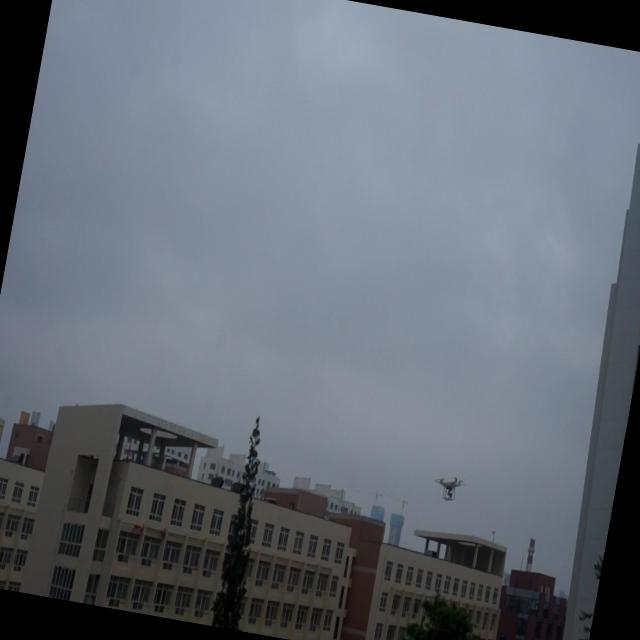drone: (429, 468, 472, 508)
